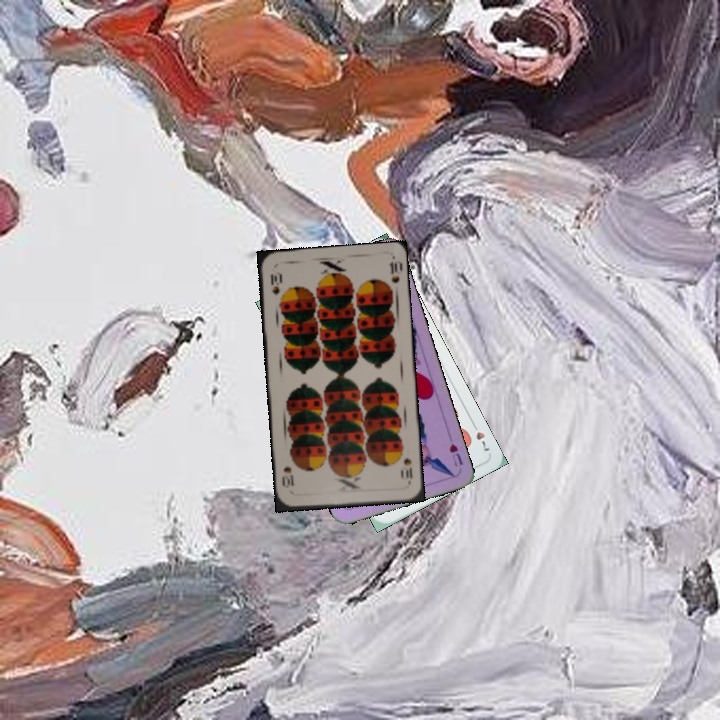H7: (468, 418, 492, 454)
HU: (445, 439, 465, 469)
S10: (266, 269, 283, 298), (400, 454, 415, 481)
